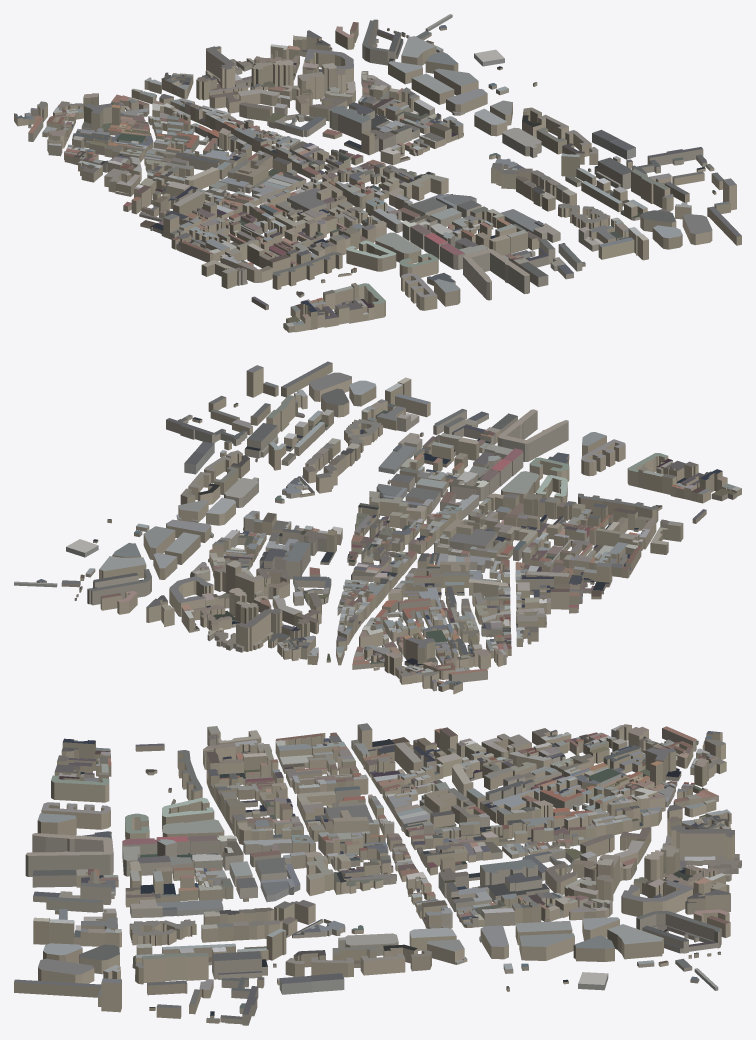
The picture shows the model from 3 angles, top to bottom: view 1: azimuth 30°, elevation 25°; view 2: azimuth 150°, elevation 25°; view 3: azimuth 270°, elevation 25°; orthographic projection. The views are drawn at different scales.
Parts seen in each view (by area): view 1: tuile; view 2: tuile; view 3: tuile.
Part boxes in pixels (bbox=[...]): tuile: bbox=[14, 14, 741, 332]; tuile: bbox=[14, 361, 741, 694]; tuile: bbox=[14, 723, 741, 1025].
Bounding box in the file's own units: 986 × 66.65 × 1068.
